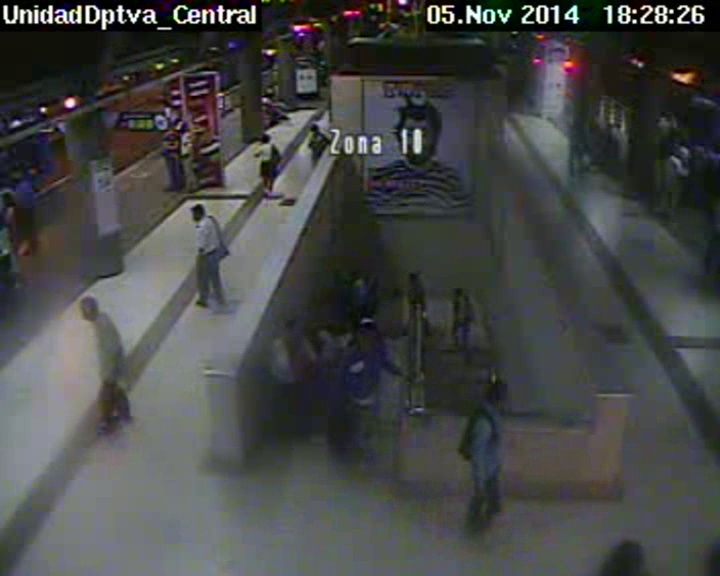person: (486, 382, 509, 411), (357, 317, 379, 345), (77, 295, 100, 319), (188, 203, 207, 221), (408, 269, 423, 284), (278, 322, 294, 336), (666, 141, 680, 156), (3, 189, 16, 204), (12, 169, 26, 182), (329, 270, 343, 283), (358, 268, 372, 281), (453, 285, 466, 298), (175, 122, 189, 134), (260, 133, 272, 144), (309, 123, 319, 133), (573, 119, 583, 129), (265, 91, 273, 98), (265, 86, 273, 93)
